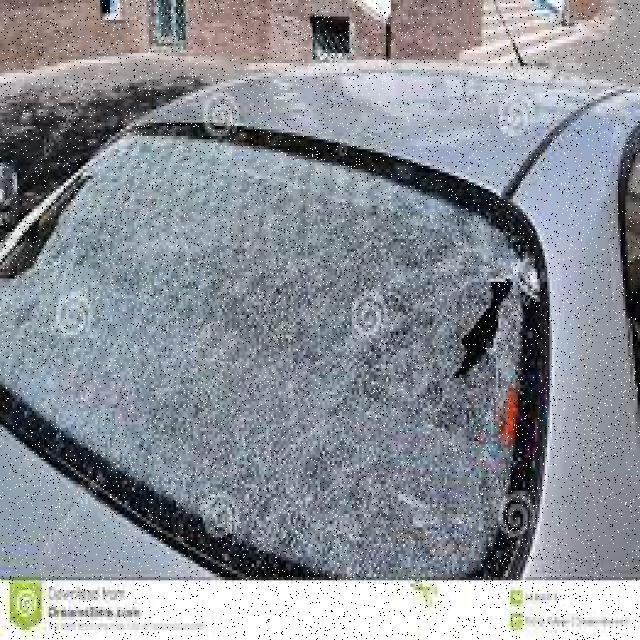Rear-windscreen-Damage: (0, 139, 588, 600)
